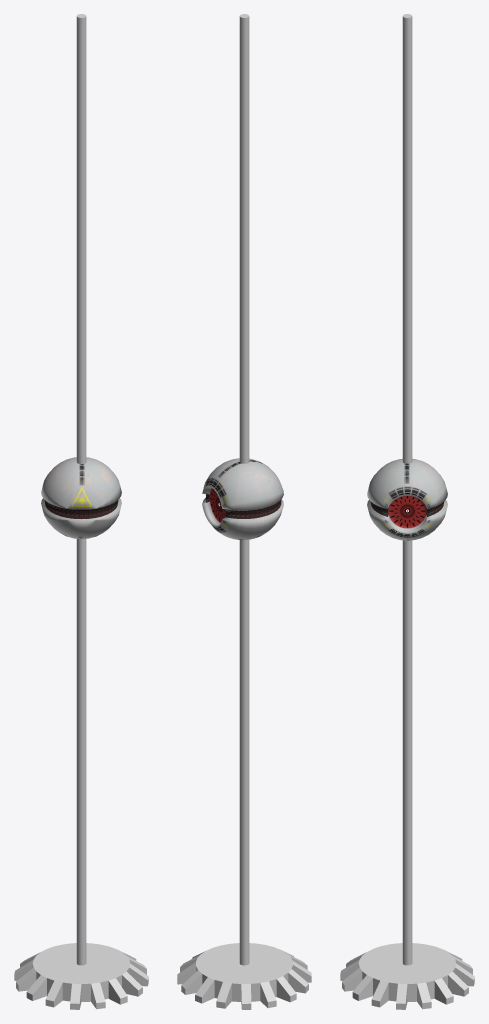
File: Scanner.fbx
3 views of the same model, side by side, from view 1: azimuth 90°, elevation 25°; view 2: azimuth 210°, elevation 25°; view 3: azimuth 270°, elevation 25° (orthographic).
Visible parts, largest first — view 1: Laser, Laser Drone; view 2: Laser, Laser Drone; view 3: Laser, Laser Drone.
Boxes of the visible parts, x1=… form: Laser: x1=14, y1=14, x2=148, y2=1009; Laser Drone: x1=41, y1=457, x2=121, y2=539; Laser: x1=177, y1=14, x2=311, y2=1009; Laser Drone: x1=202, y1=458, x2=283, y2=540; Laser: x1=340, y1=14, x2=474, y2=1009; Laser Drone: x1=367, y1=458, x2=447, y2=540.
Bounding box in the file's own units: 37.9 × 300 × 37.9.
1 material, 1 textured.
